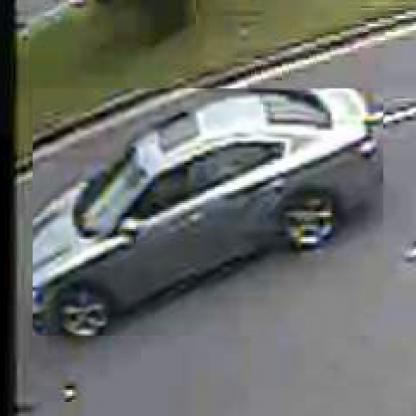car: (32, 90, 384, 339)
